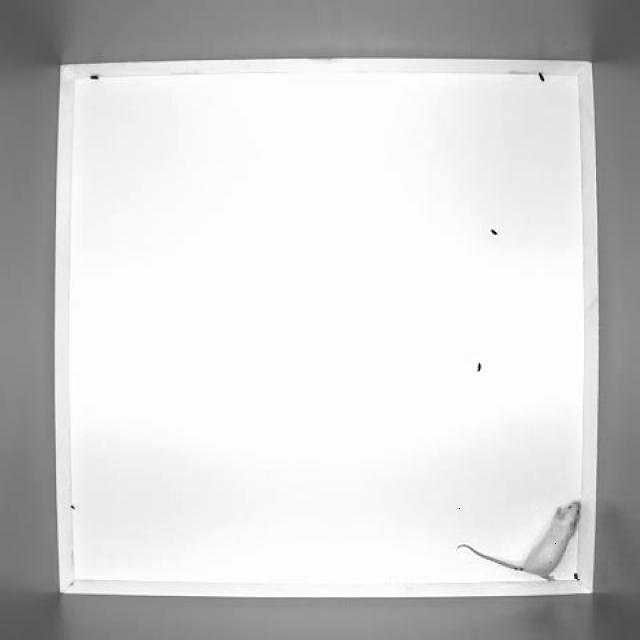rat: (458, 498, 586, 579)
